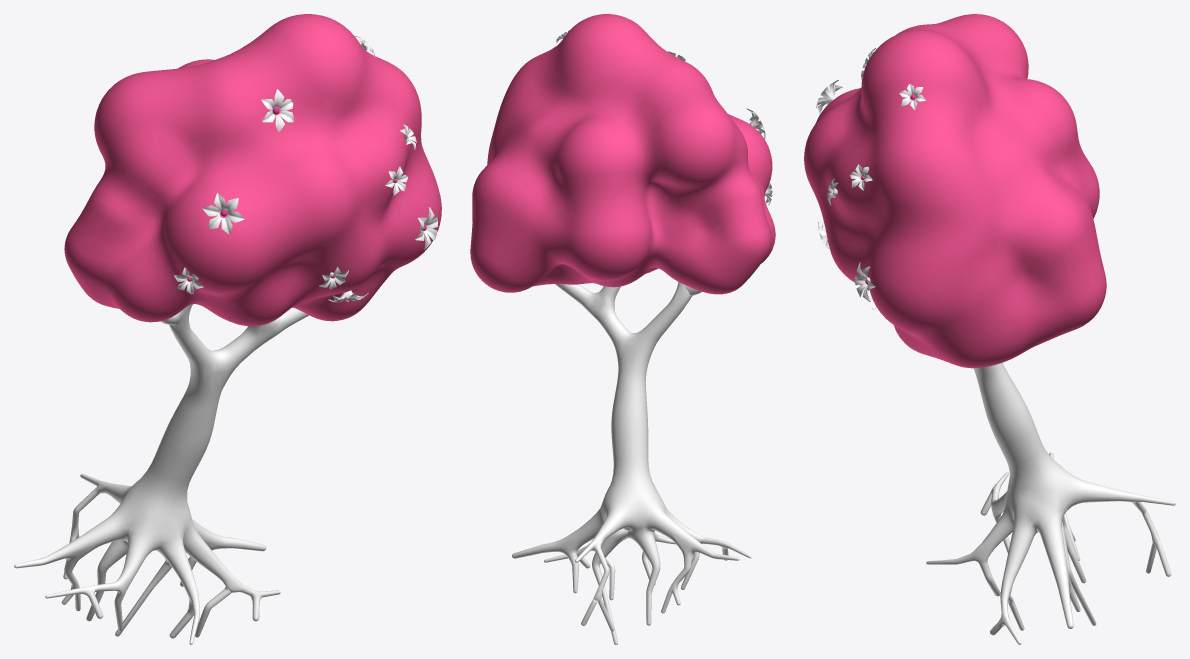
Rendered from arvore_rosa.glb.
3 renders of one model, left to right at view 1: azimuth 30°, elevation 25°; view 2: azimuth 150°, elevation 25°; view 3: azimuth 270°, elevation 25°, orthographic. The views are drawn at different scales.
Parts seen in each view (by area): view 1: Mball.041, Plane, Circle.002_assada; view 2: Mball.041, Plane, Circle.002_assada; view 3: Mball.041, Plane, Circle.002_assada.
Part boxes in pixels (x1,y1,x2,y2): Mball.041: [64, 14, 441, 326]; Plane: [14, 304, 308, 644]; Circle.002_assada: [174, 36, 437, 302]; Mball.041: [470, 14, 775, 294]; Plane: [512, 282, 751, 644]; Circle.002_assada: [556, 30, 772, 205]; Mball.041: [804, 14, 1106, 368]; Plane: [926, 362, 1175, 644]; Circle.002_assada: [816, 48, 925, 317].
Bounding box in the file's own units: 0.9736 × 1.72 × 0.9107.
